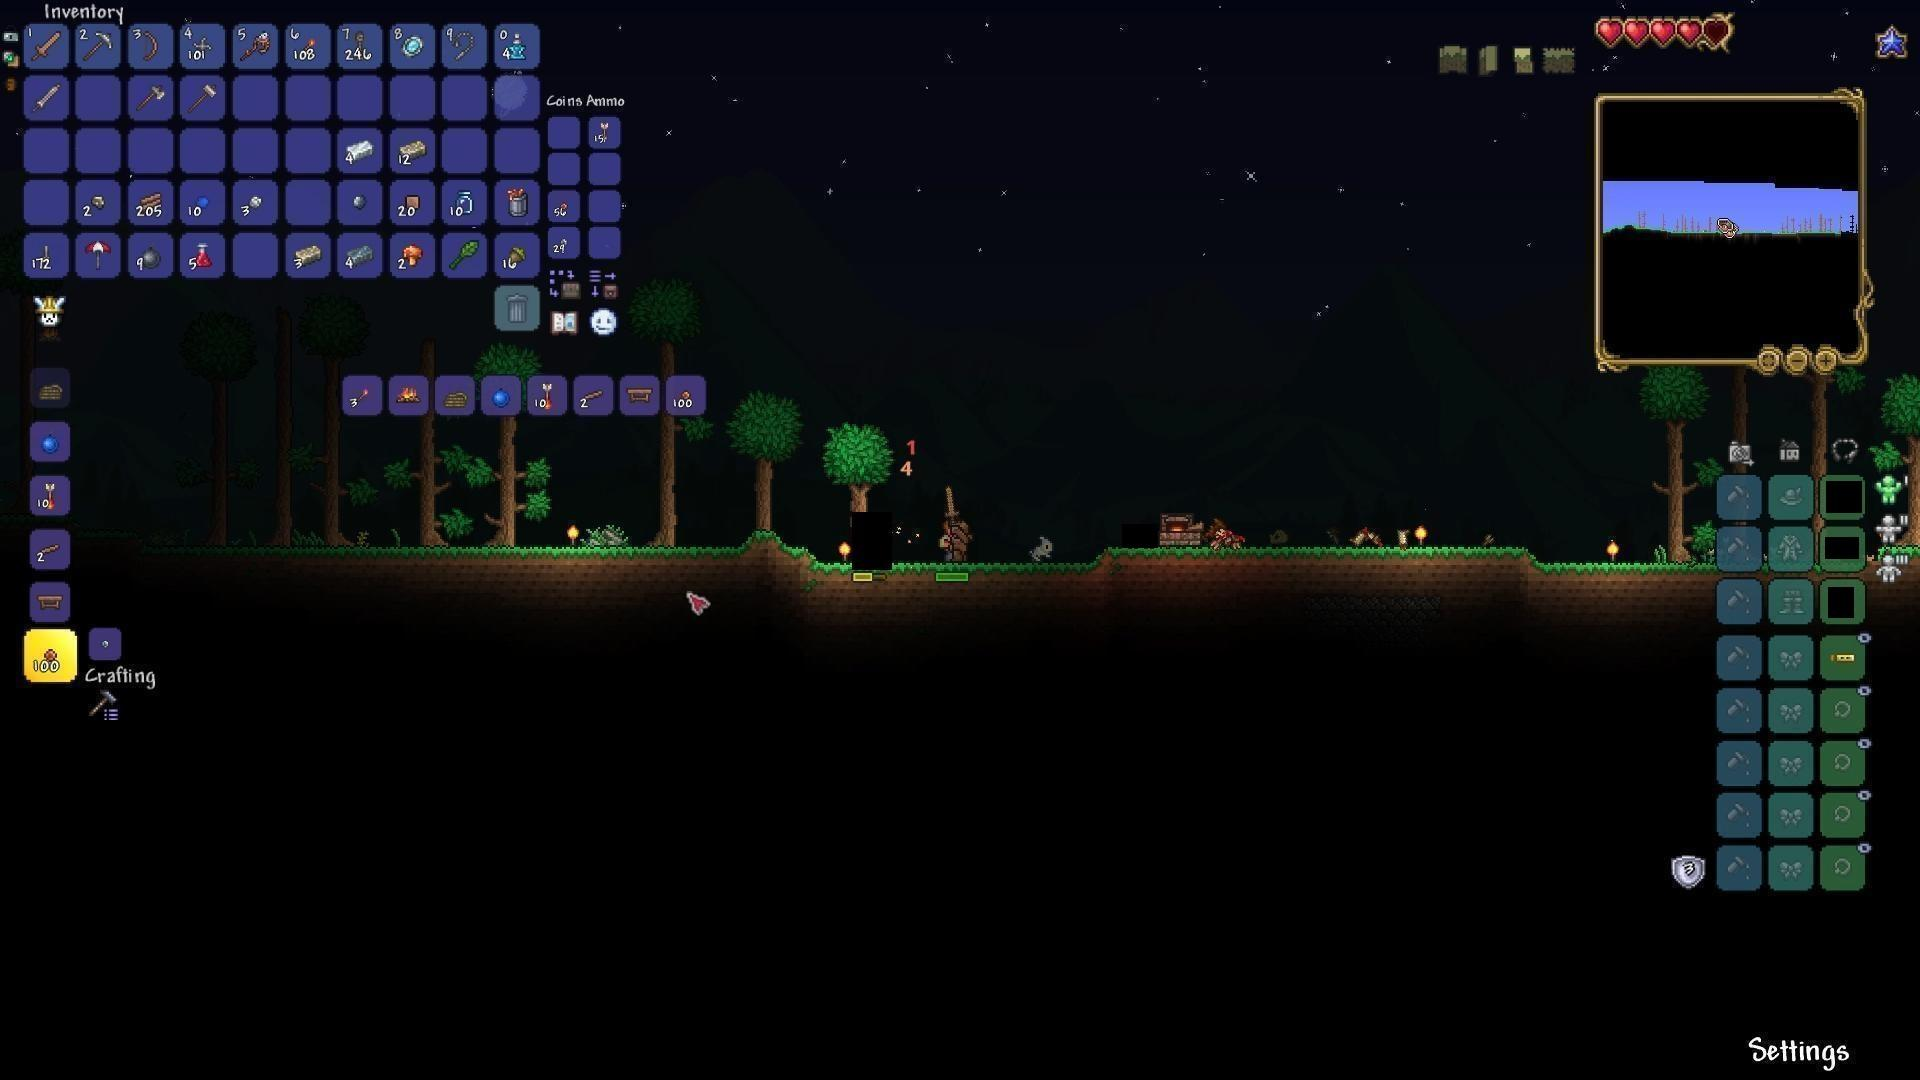wood: (138, 191, 164, 214)
workbench: (33, 589, 69, 612)
